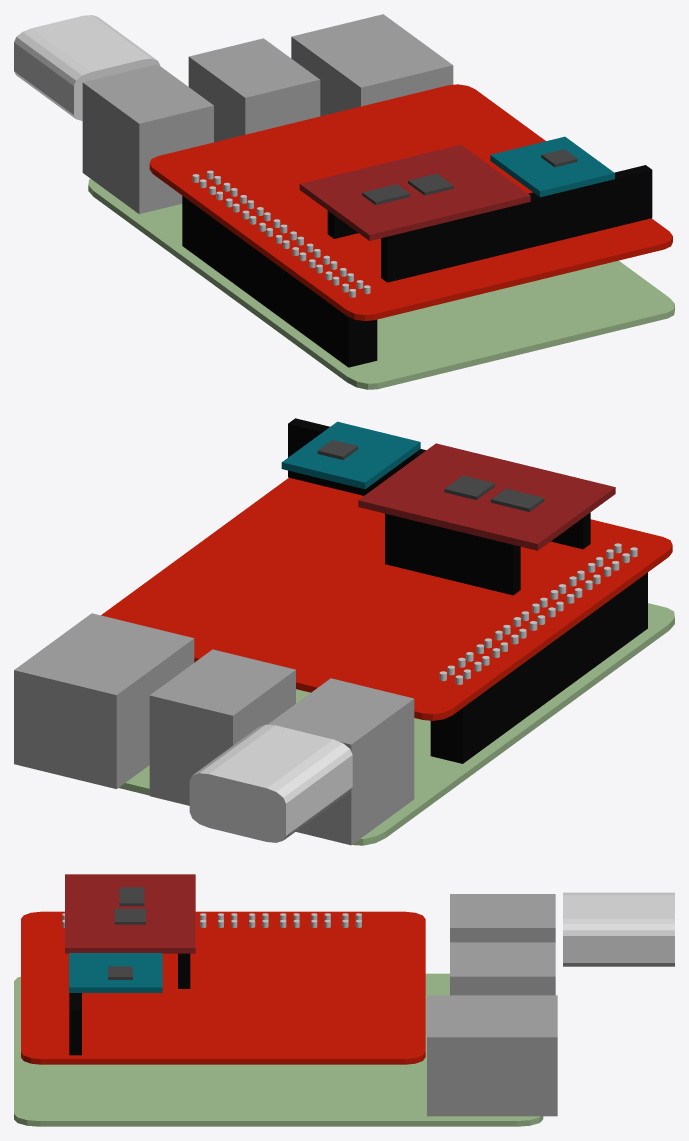
File: raspberry.dae
The picture shows the model from 3 angles, top to bottom: view 1: azimuth 30°, elevation 25°; view 2: azimuth 150°, elevation 25°; view 3: azimuth 270°, elevation 25°; orthographic projection. The views are drawn at different scales.
Visible parts, largest first — view 1: PCB_Hat, PCB_Main, USB, Connector_18pin, Accelerometer, LAN, Connector_40pin, USB2, WiFi, Magnetometer, Pins, Chip_001 (+1 smaller); view 2: PCB_Hat, LAN, Accelerometer, WiFi, USB2, USB, Connector_40pin, PCB_Main, Connector_8pin, Magnetometer, Pins, Connector_18pin (+2 smaller); view 3: PCB_Hat, PCB_Main, LAN, Accelerometer, WiFi, USB2, USB, Magnetometer, Pins, Connector_18pin, Chip_001, Chip_002 (+1 smaller).
Boxes of the visible parts, x1=… form: PCB_Hat: x1=149, y1=84, x2=672, y2=321; PCB_Main: x1=88, y1=179, x2=674, y2=389; USB: x1=82, y1=64, x2=213, y2=214; Connector_18pin: x1=381, y1=165, x2=652, y2=282; Accelerometer: x1=299, y1=144, x2=530, y2=240; LAN: x1=291, y1=14, x2=453, y2=116; Connector_40pin: x1=182, y1=196, x2=377, y2=367; USB2: x1=188, y1=38, x2=320, y2=142; WiFi: x1=14, y1=15, x2=160, y2=120; Magnetometer: x1=490, y1=136, x2=614, y2=197; Pins: x1=192, y1=170, x2=370, y2=297; Chip_001: x1=408, y1=173, x2=453, y2=195; PCB_Hat: x1=101, y1=477, x2=672, y2=720; LAN: x1=14, y1=613, x2=194, y2=788; Accelerometer: x1=358, y1=443, x2=615, y2=550; WiFi: x1=189, y1=724, x2=352, y2=842; USB2: x1=149, y1=649, x2=295, y2=805; USB: x1=268, y1=678, x2=414, y2=845; Connector_40pin: x1=430, y1=572, x2=647, y2=763; PCB_Main: x1=119, y1=603, x2=674, y2=845; Connector_8pin: x1=385, y1=513, x2=520, y2=595; Magnetometer: x1=281, y1=421, x2=420, y2=489; Pins: x1=439, y1=543, x2=637, y2=684; Connector_18pin: x1=288, y1=418, x2=590, y2=549; PCB_Hat: x1=21, y1=911, x2=425, y2=1064; PCB_Main: x1=14, y1=973, x2=543, y2=1126; LAN: x1=427, y1=995, x2=557, y2=1116; Accelerometer: x1=65, y1=874, x2=195, y2=953; WiFi: x1=563, y1=892, x2=674, y2=966; USB2: x1=450, y1=942, x2=555, y2=995; USB: x1=450, y1=894, x2=555, y2=942; Magnetometer: x1=69, y1=953, x2=162, y2=992; Pins: x1=62, y1=913, x2=361, y2=927; Connector_18pin: x1=69, y1=993, x2=81, y2=1055; Chip_001: x1=114, y1=908, x2=145, y2=924; Chip_002: x1=119, y1=887, x2=144, y2=905.
Bounding box in the file's own units: 56 × 106 × 23.
